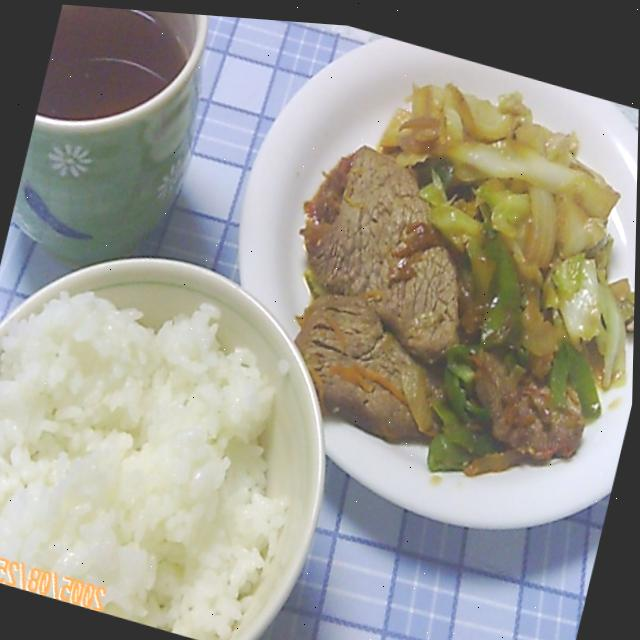蔬菜料理: (292, 37, 640, 474)
